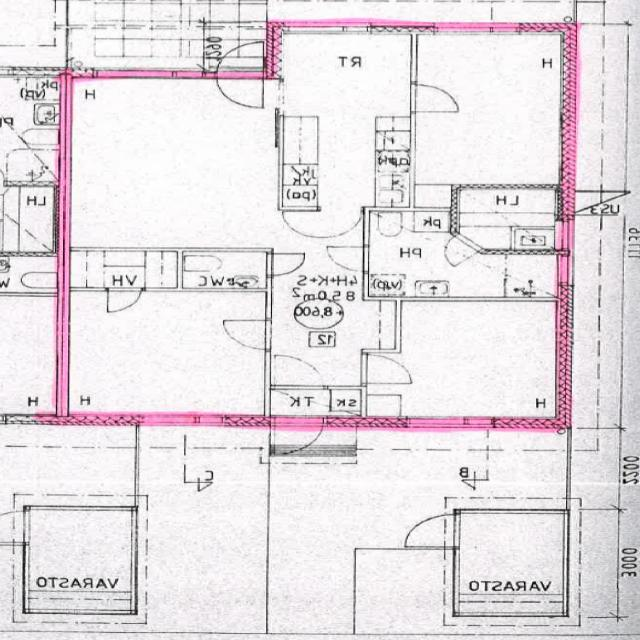door: (274, 415, 323, 457), (432, 235, 484, 270), (408, 516, 464, 548), (218, 70, 264, 108), (218, 41, 264, 79), (276, 355, 324, 390), (363, 354, 414, 384), (221, 321, 272, 349), (411, 84, 458, 112), (321, 208, 361, 237), (326, 248, 369, 272), (267, 254, 307, 276), (108, 289, 142, 313)
